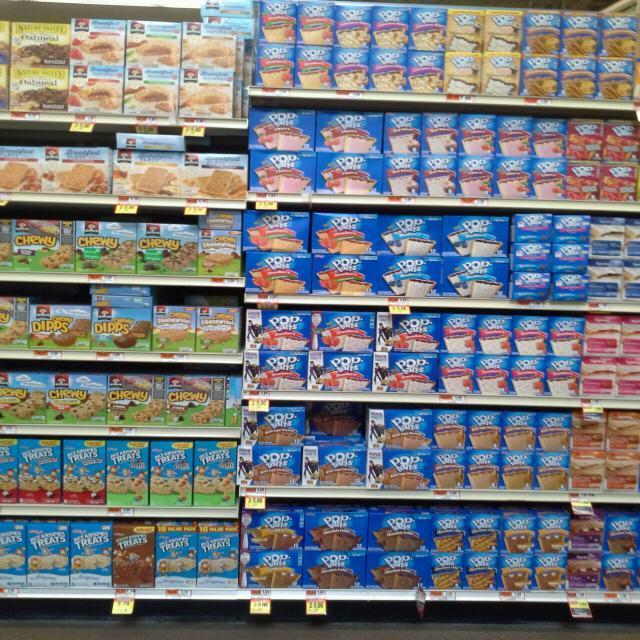Imprecise: (310, 402, 369, 488), (110, 522, 158, 586)
